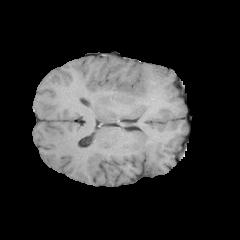glioma: (79, 65, 173, 128)
